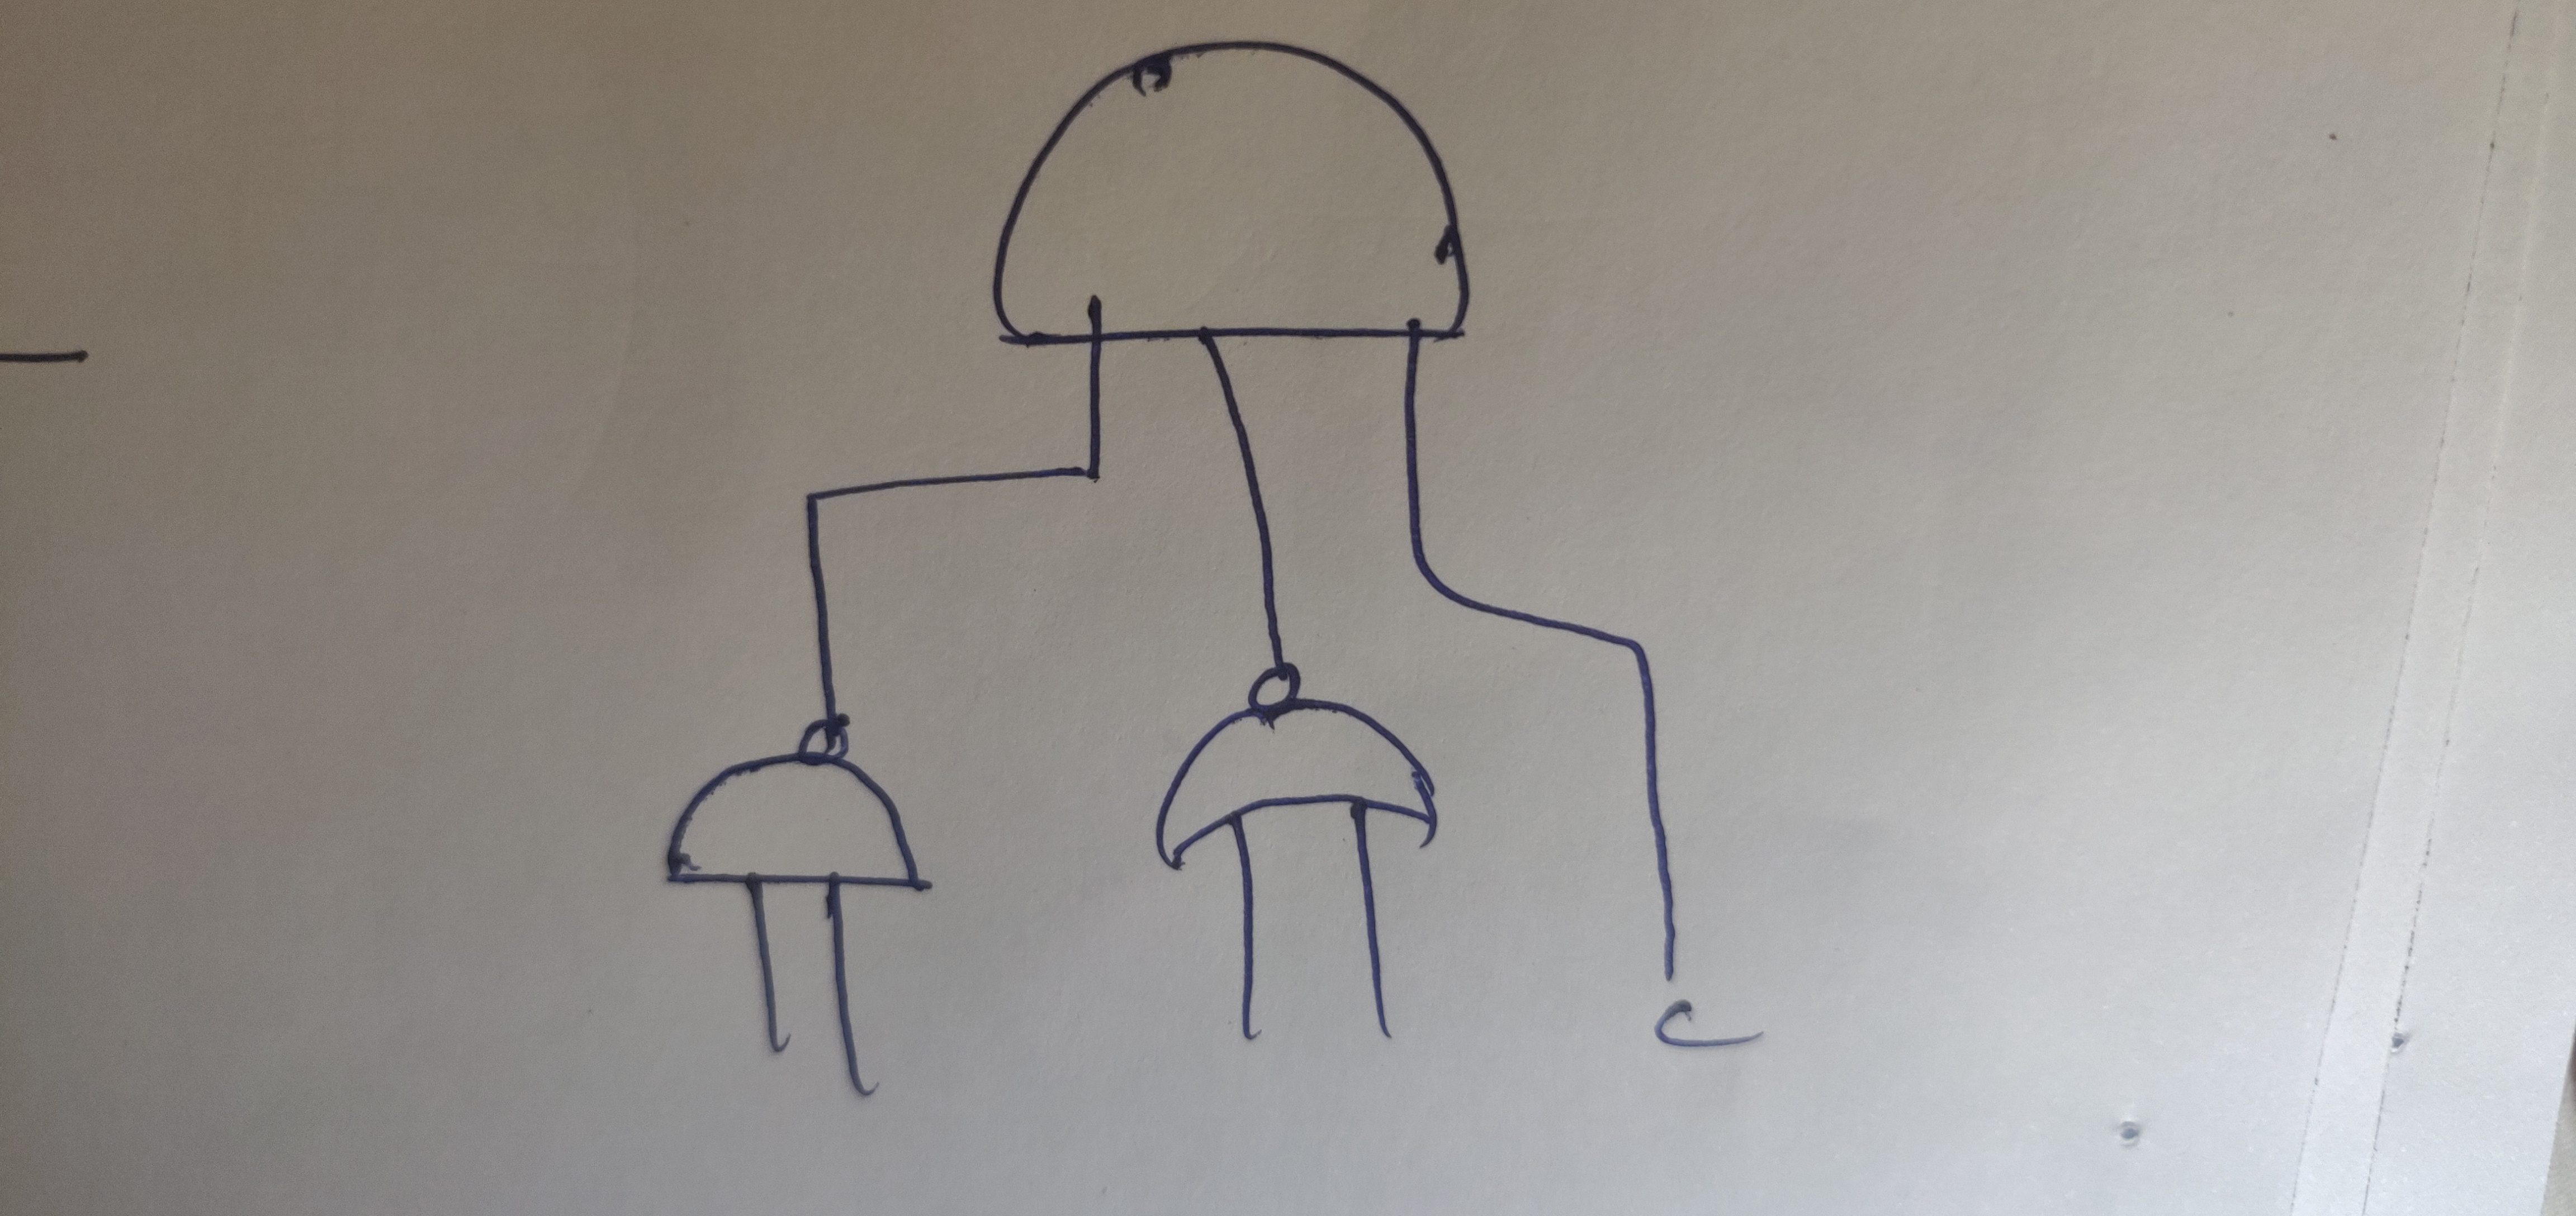and: (946, 20, 1551, 414)
nand: (642, 680, 963, 953)
nor: (1127, 641, 1485, 894)
